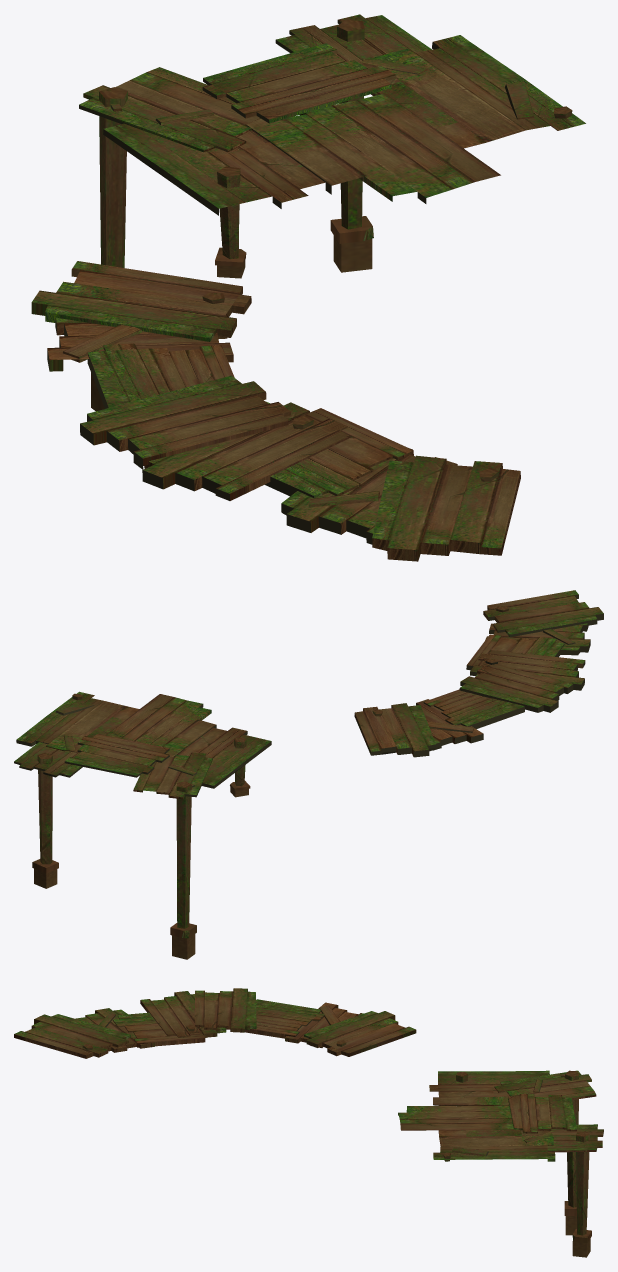
File: s_battle_01_muqiao.FBX
3 views of the same model, one above another, from view 1: azimuth 30°, elevation 25°; view 2: azimuth 150°, elevation 25°; view 3: azimuth 270°, elevation 25° (orthographic). The views are drawn at different scales.
Visible parts, largest first — view 1: muqiao4, muqiao6, muqiao1, muqiao7, Object049, muqiao15, muqiao11, muqiao13, muqiao5, muqiao3, muqiao2, muqiao111 (+4 smaller); view 2: muqiao4, muqiao6, muqiao1, muqiao7, muqiao15, muqiao11, Object049, muqiao111, muqiao13, muqiao5, muqiao222, muqiao3 (+3 smaller); view 3: muqiao4, muqiao6, muqiao15, muqiao1, Object049, muqiao7, muqiao11, muqiao5, muqiao13, muqiao222, muqiao3, muqiao10 (+2 smaller).
Boxes of the visible parts, x1,y1,x2,y2 form: muqiao4: (80, 375, 350, 500); muqiao6: (31, 261, 251, 371); muqiao1: (372, 455, 520, 561); muqiao7: (103, 118, 366, 215); Object049: (286, 93, 500, 203); muqiao15: (361, 35, 585, 148); muqiao11: (202, 43, 427, 123); muqiao13: (79, 67, 260, 152); muqiao5: (87, 343, 234, 408); muqiao3: (265, 408, 413, 497); muqiao2: (281, 448, 499, 544); muqiao111: (91, 87, 127, 411); muqiao4: (459, 650, 585, 712); muqiao6: (354, 699, 483, 757); muqiao1: (483, 590, 603, 637); muqiao7: (162, 719, 271, 788); muqiao15: (16, 691, 139, 752); muqiao11: (63, 734, 169, 777); Object049: (105, 694, 211, 746); muqiao111: (170, 781, 196, 959); muqiao13: (133, 752, 212, 799); muqiao5: (423, 689, 524, 728); muqiao222: (32, 752, 58, 888); muqiao3: (466, 634, 564, 670); muqiao4: (140, 988, 256, 1037); muqiao6: (285, 1002, 416, 1056); muqiao15: (433, 1129, 555, 1161); muqiao1: (14, 1014, 130, 1058); Object049: (398, 1105, 513, 1130); muqiao7: (429, 1070, 549, 1105); muqiao11: (508, 1094, 576, 1143); muqiao5: (245, 999, 324, 1038); muqiao13: (494, 1070, 596, 1099); muqiao222: (572, 1131, 591, 1257); muqiao3: (113, 1012, 207, 1047); muqiao10: (547, 1124, 603, 1152).
Size of the model in its own units: 30.62 by 13.44 by 45.15.
